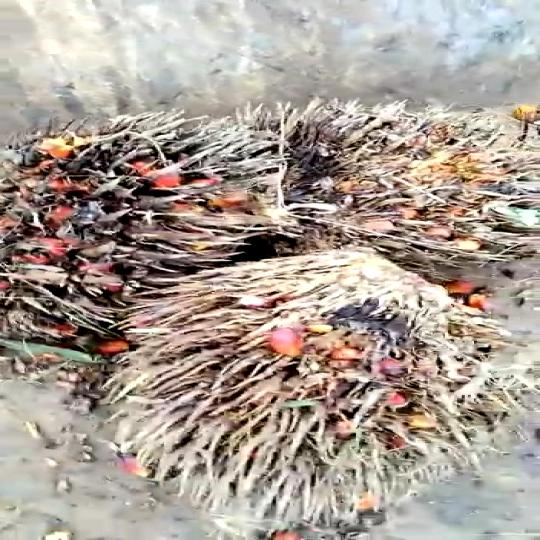terlalu masak: (116, 258, 526, 480), (0, 107, 294, 349), (233, 106, 535, 248)
